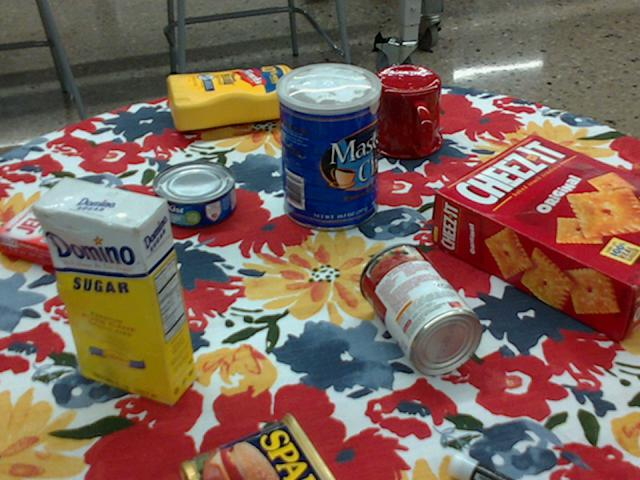cracker_box: (431, 134, 639, 343)
gelatin_box: (0, 192, 112, 272)
large_marker: (450, 451, 517, 479)
master_chef_can: (277, 63, 381, 232)
mug: (365, 66, 442, 160)
mustard_bottle: (165, 65, 323, 129)
potted_meat_can: (180, 413, 337, 479)
sugar_box: (31, 175, 197, 405)
tomato_soup_can: (359, 243, 484, 375)
tuna_fish_can: (151, 161, 234, 228)
